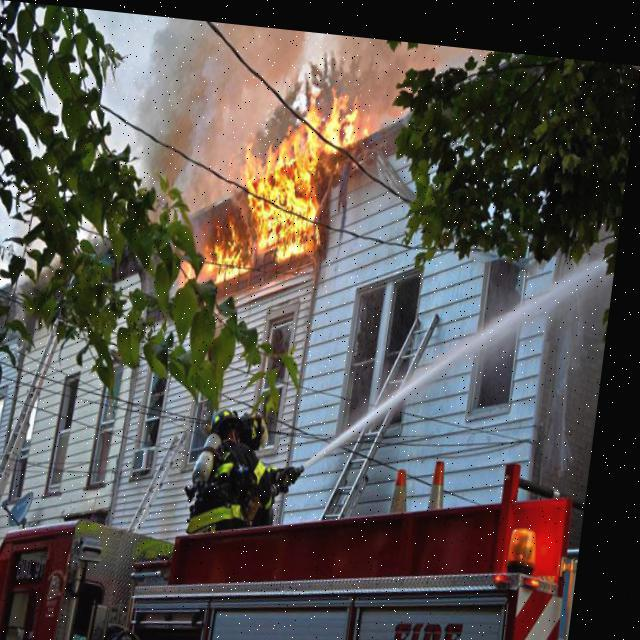Fire: (181, 70, 381, 286)
